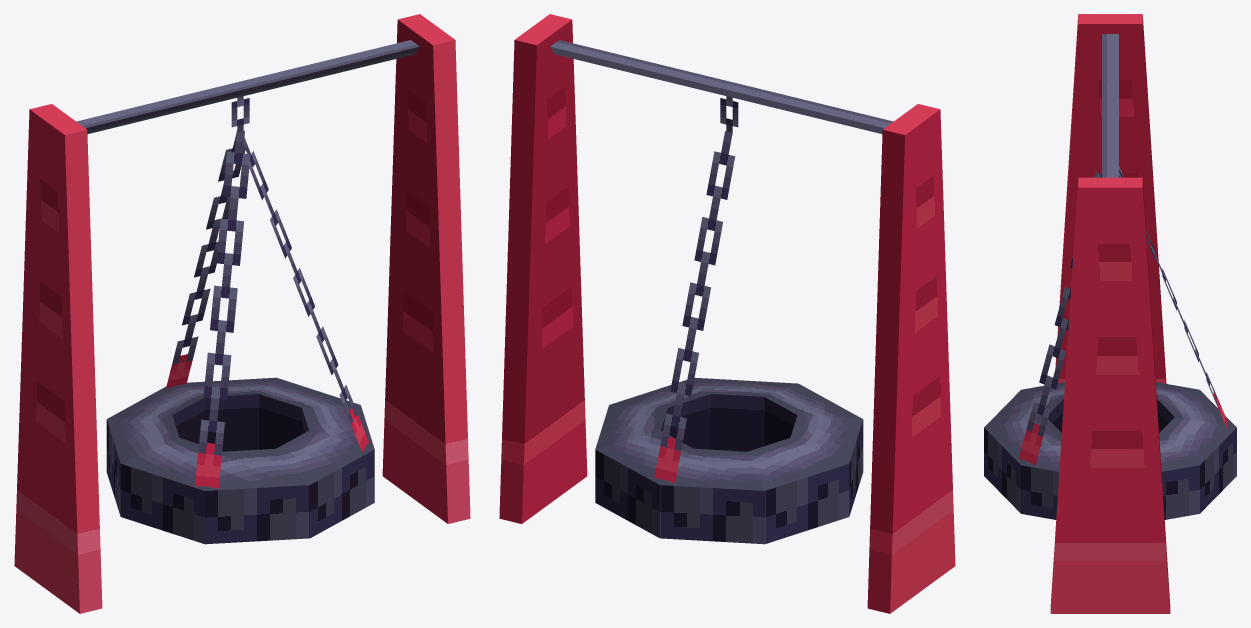
File: tire swing.obj
The picture shows the model from 3 angles, left to right: view 1: azimuth 30°, elevation 25°; view 2: azimuth 150°, elevation 25°; view 3: azimuth 270°, elevation 25°; orthographic projection. The views are drawn at different scales.
Parts seen in each view (by area): view 1: gSwing, gTire; view 2: gSwing, gTire; view 3: gSwing, gTire.
Boxes of the visible parts, x1,y1,x2,y2 form: gSwing: (14, 14, 470, 613); gTire: (106, 130, 374, 544); gSwing: (499, 14, 955, 613); gTire: (595, 131, 863, 544); gSwing: (1050, 14, 1170, 613); gTire: (984, 166, 1236, 519).
Size of the model in its own units: 7.95 by 9.1 by 4.89.
2 materials, 2 textured.
